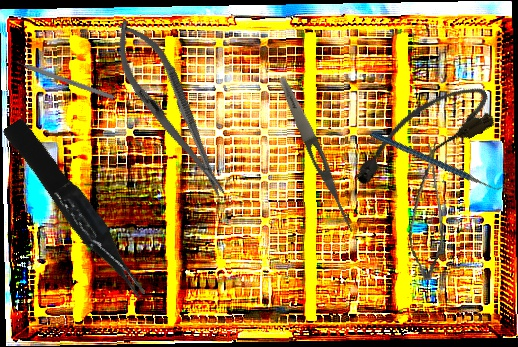Cannula: (340, 75, 502, 195)
Chopper: (370, 93, 508, 227)
Dressing Forceps: (274, 74, 360, 235)
Hook Surgical: (7, 56, 115, 101)
Micro Scissor: (395, 141, 457, 282)
Needle Holder: (99, 9, 242, 209)
Tissue Forceps: (1, 111, 151, 310)
